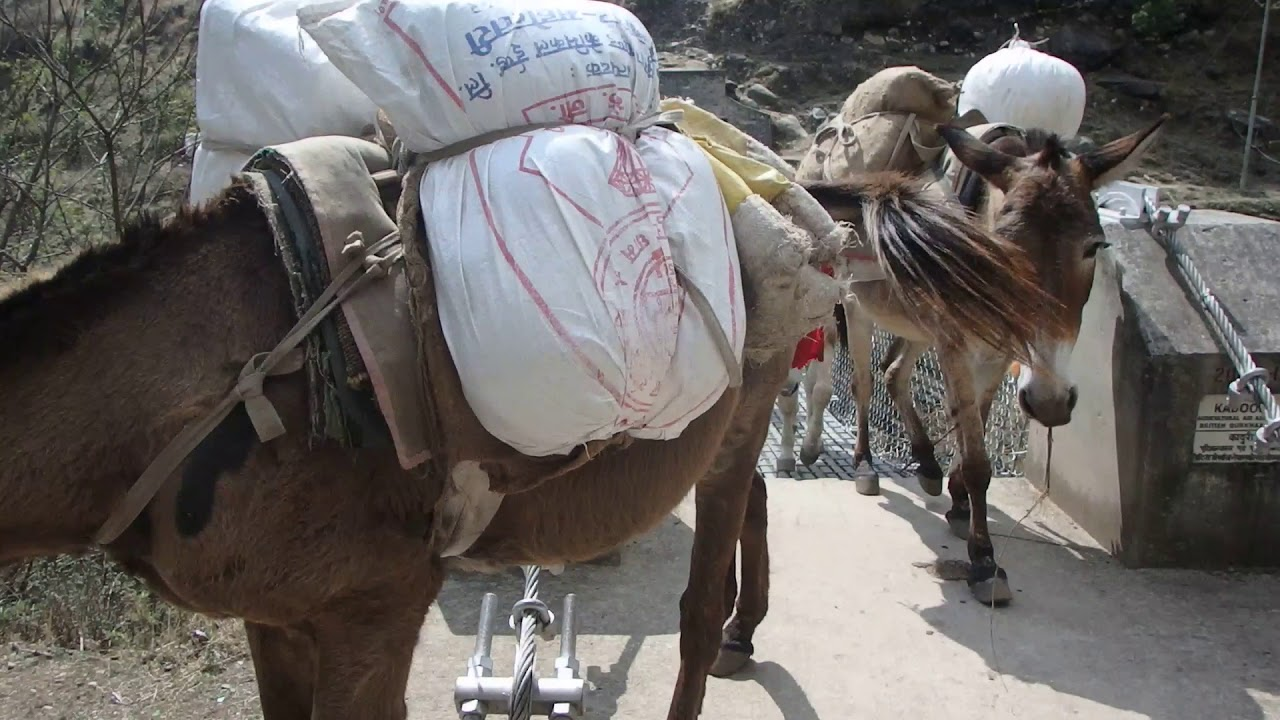equine: (1, 89, 826, 719), (815, 79, 1157, 636)
